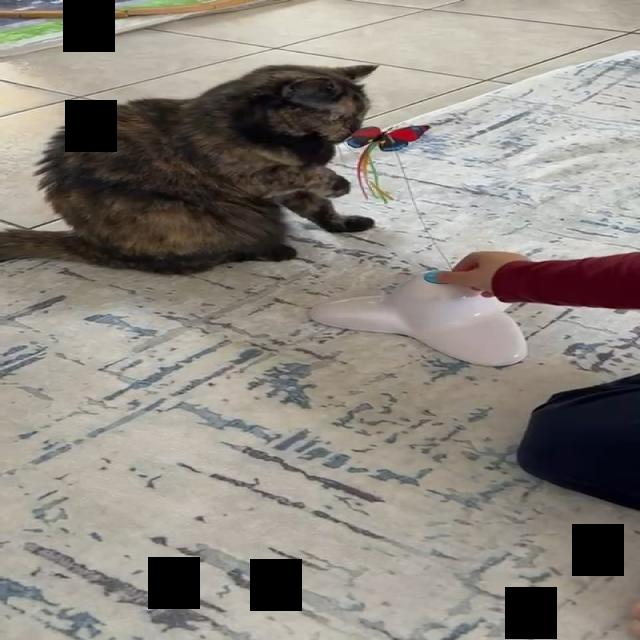authorized: (0, 62, 379, 276)
